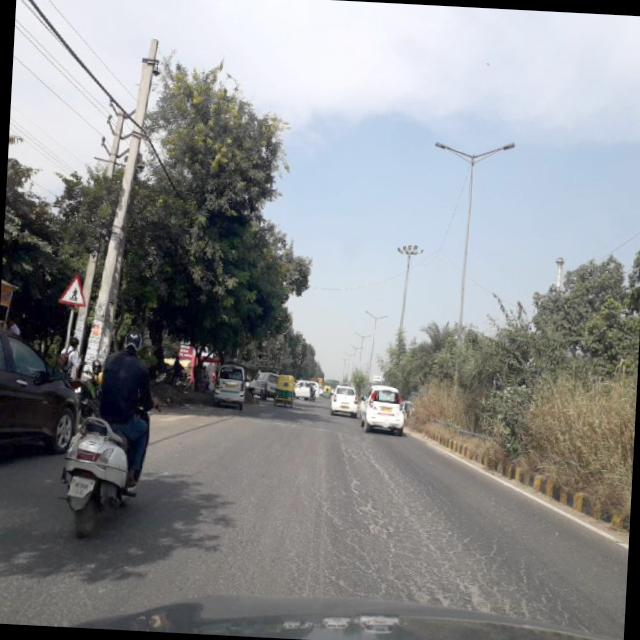crack: (302, 521, 592, 618), (305, 445, 451, 530)
